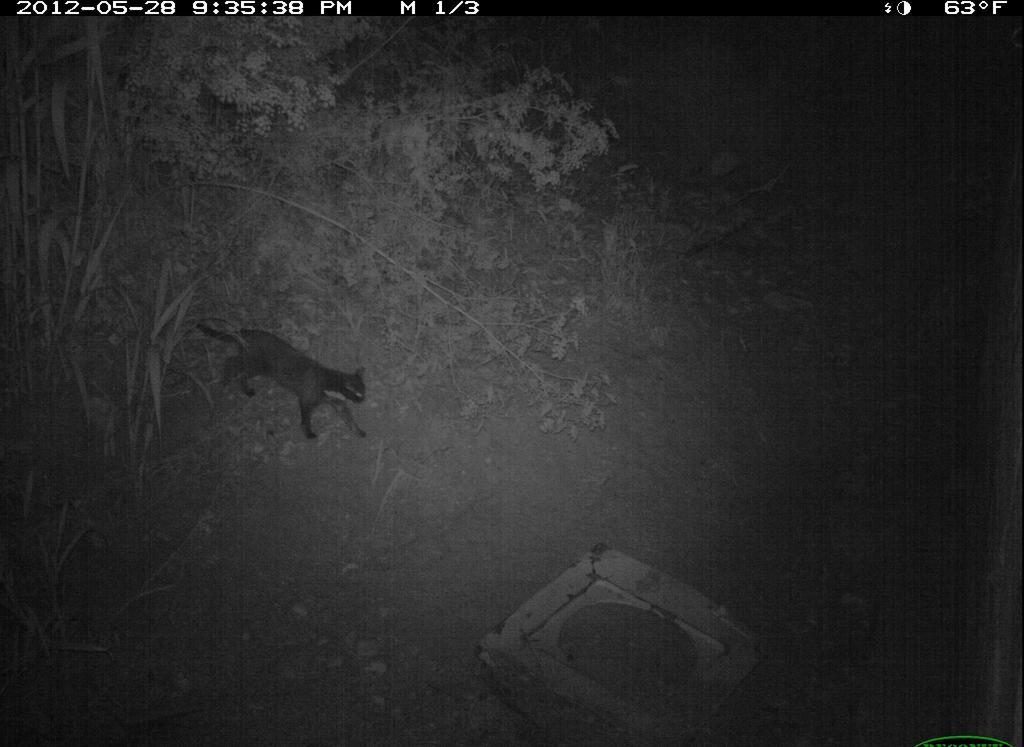cat: (186, 317, 378, 449)
